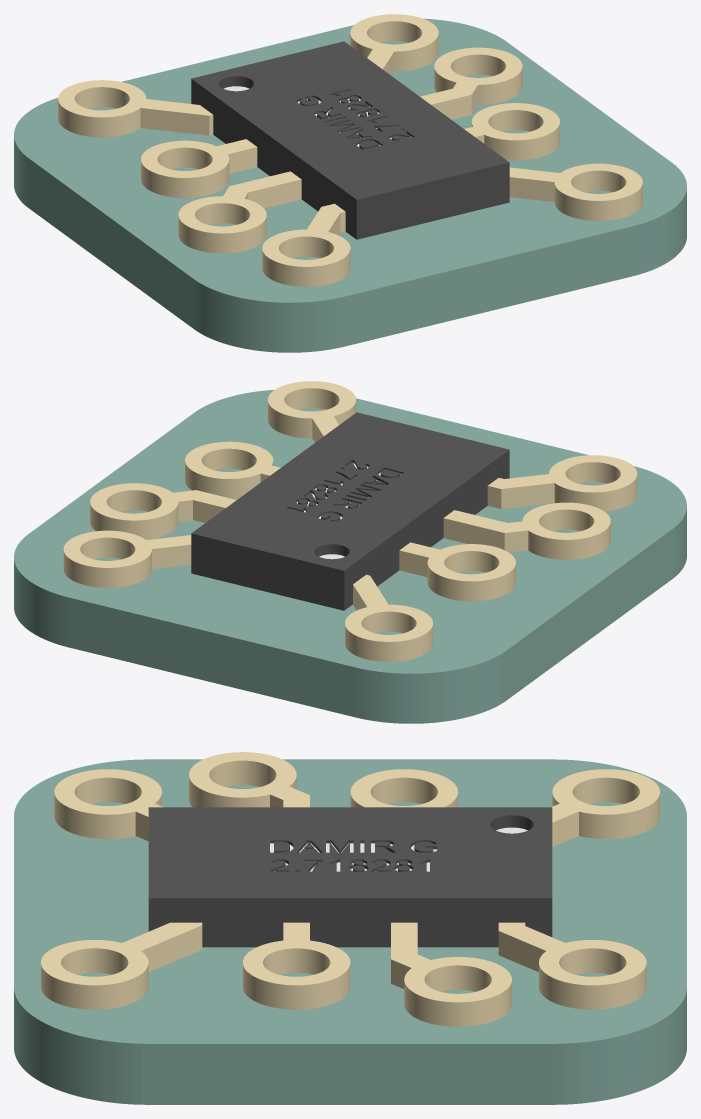
The model's file is pcb.glb.
3 views of the same model, one above another, from view 1: azimuth 30°, elevation 25°; view 2: azimuth 150°, elevation 25°; view 3: azimuth 270°, elevation 25° (orthographic). The views are drawn at different scales.
Visible parts, largest first — view 1: Node2, Node4, Node1; view 2: Node2, Node4, Node1; view 3: Node2, Node4, Node1, Node3.
Boxes of the visible parts, x1=… form: Node2: x1=14, y1=18, x2=686, y2=352; Node4: x1=58, y1=14, x2=642, y2=286; Node1: x1=191, y1=41, x2=509, y2=239; Node2: x1=14, y1=390, x2=686, y2=723; Node4: x1=63, y1=381, x2=637, y2=661; Node1: x1=191, y1=412, x2=509, y2=610; Node2: x1=14, y1=759, x2=686, y2=1104; Node4: x1=41, y1=752, x2=659, y2=1026; Node1: x1=148, y1=807, x2=552, y2=947; Node3: x1=270, y1=827, x2=527, y2=871.
Bounding box in the file's own units: 50 × 9 × 50.
